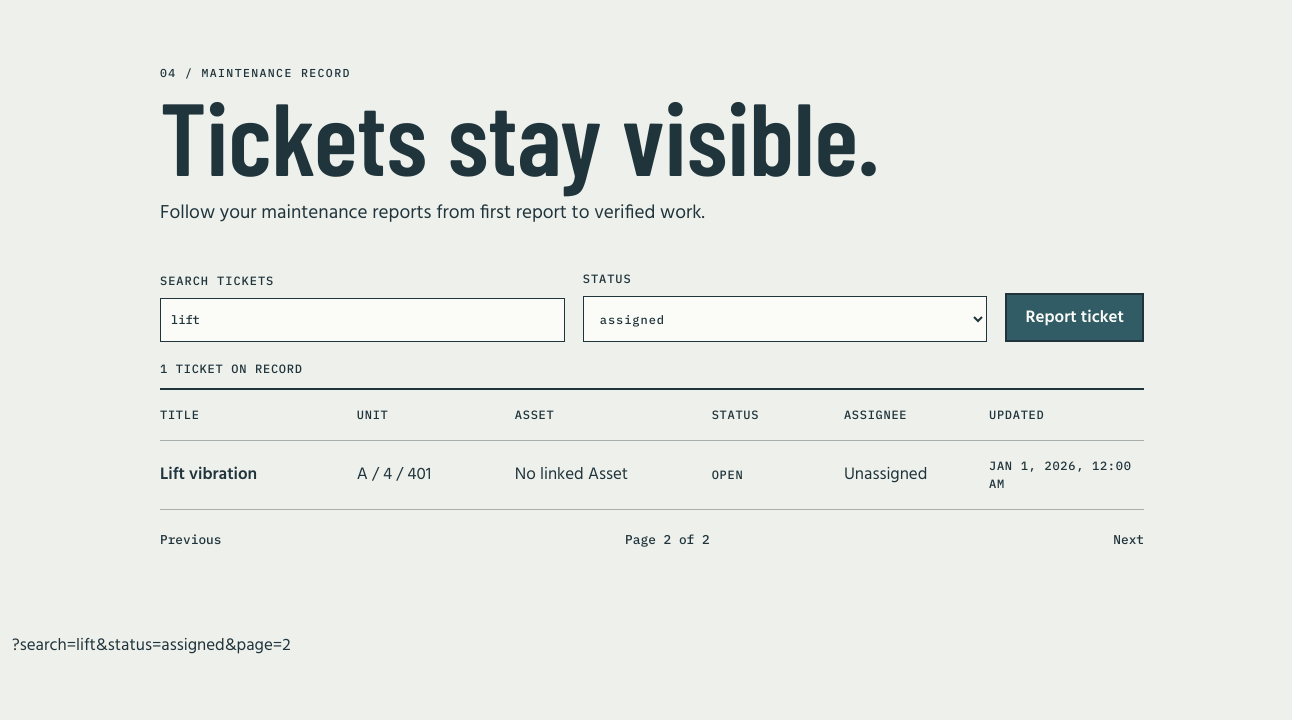
Ticket client workflow › restores ledger filters from the URL and writes changes back
This screenshot has width=1292, height=720.
Check: the dropdown named "Ticket status filter" shows "assigned", box top-left (583, 296), bottom-right (987, 342)
Check: the text named "Current location" reads "?search=lift&status=assigned&page=2", box top-left (12, 632), bottom-right (291, 659)
Replace the text in the field labelled "Search tickets" with "pump": (362, 320) top-left (160, 298), bottom-right (565, 342)
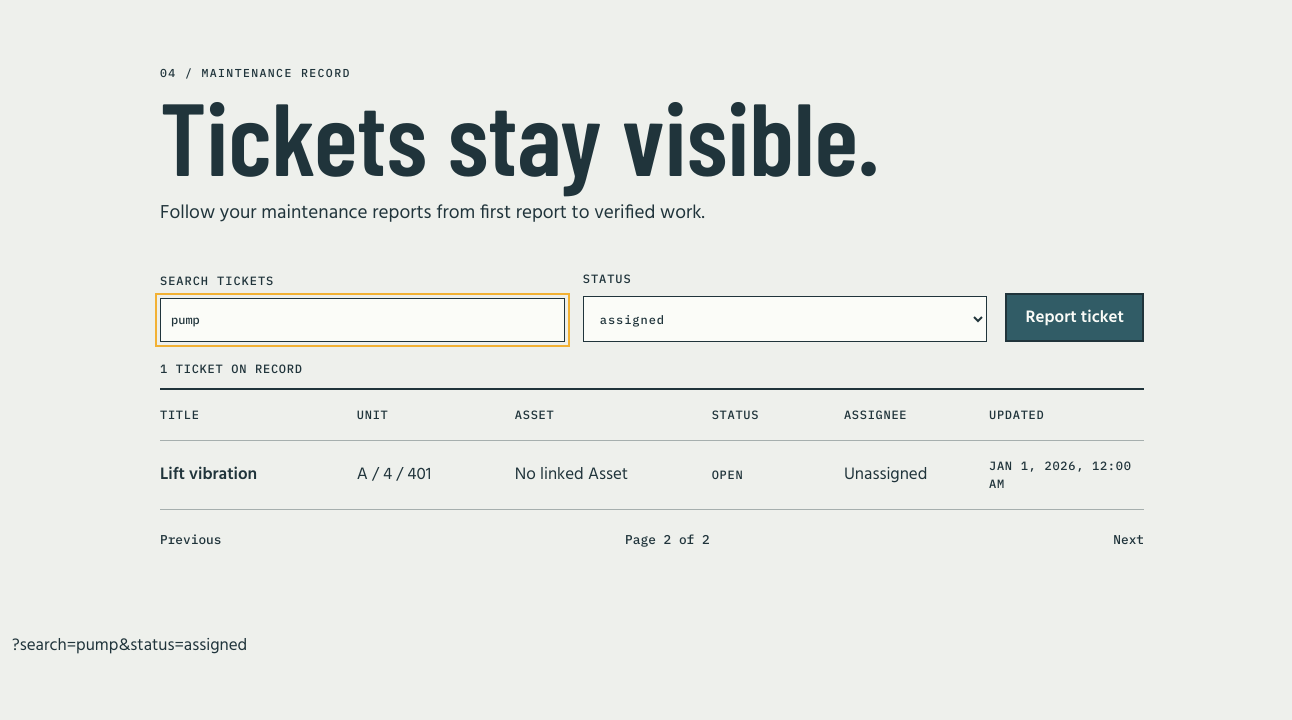
Check: the text named "Current location" reads "?search=pump&status=assigned", box top-left (12, 632), bottom-right (247, 659)
